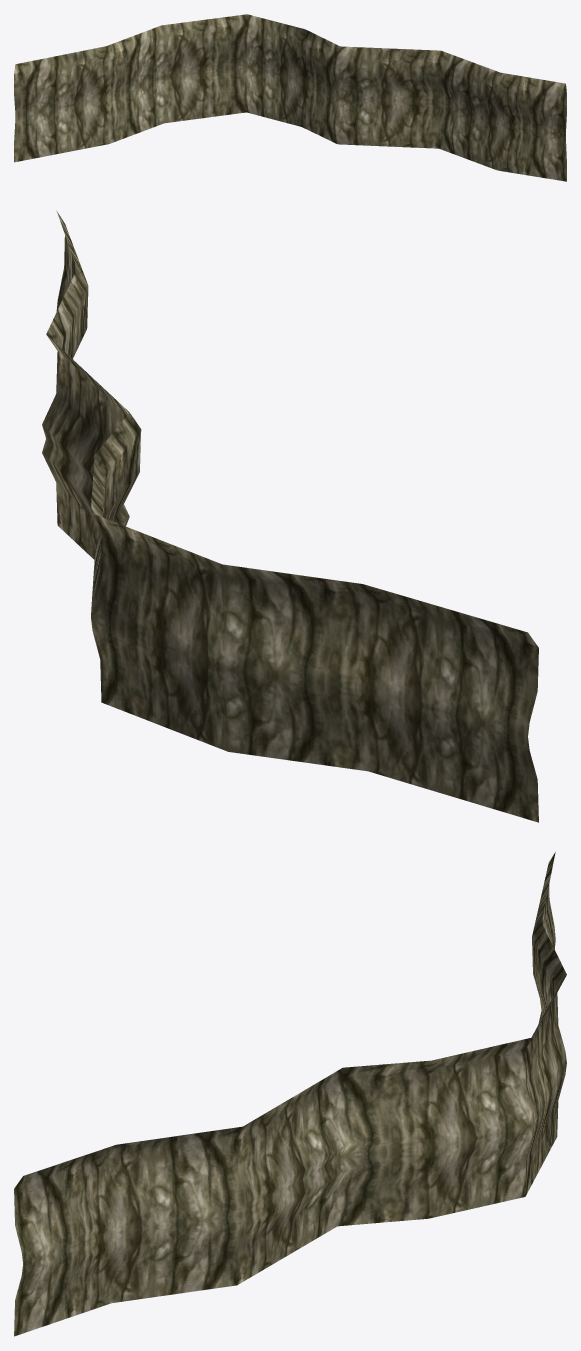
Rendered from CB_NEWPLAYSURFACE_CB_PLAYSURFACE37.fbx.
The picture shows the model from 3 angles, top to bottom: view 1: azimuth 30°, elevation 25°; view 2: azimuth 150°, elevation 25°; view 3: azimuth 270°, elevation 25°; orthographic projection. The views are drawn at different scales.
Parts seen in each view (by area): view 1: CB_NEWPLAYSURFACE_CB_PLAYSURFACE37; view 2: CB_NEWPLAYSURFACE_CB_PLAYSURFACE37; view 3: CB_NEWPLAYSURFACE_CB_PLAYSURFACE37.
Boxes of the visible parts, left/top/right/bottom form: CB_NEWPLAYSURFACE_CB_PLAYSURFACE37: left=14, top=14, right=566, bottom=181; CB_NEWPLAYSURFACE_CB_PLAYSURFACE37: left=42, top=211, right=538, bottom=822; CB_NEWPLAYSURFACE_CB_PLAYSURFACE37: left=14, top=852, right=566, bottom=1336.
Bounding box in the file's own units: 318575 × 73541 × 227352.
Materials: 1 (1 with a texture image).
